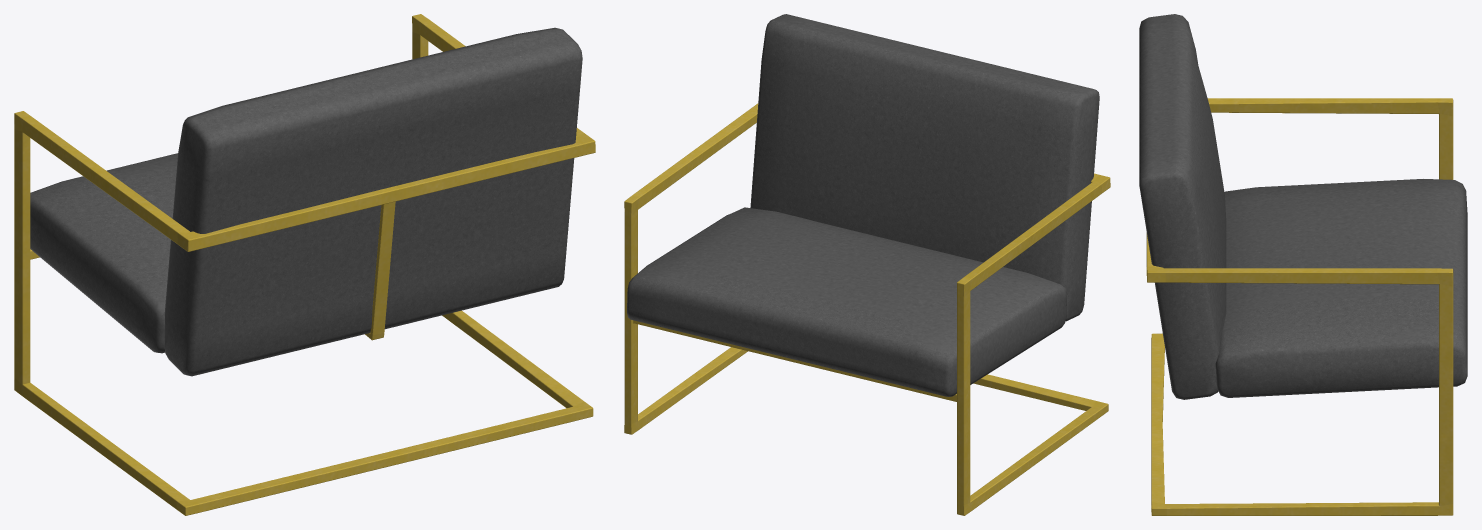
File: gold_chair.fbx
3 views of the same model, side by side, from view 1: azimuth 30°, elevation 25°; view 2: azimuth 150°, elevation 25°; view 3: azimuth 270°, elevation 25° (orthographic). The views are drawn at different scales.
Parts seen in each view (by area): view 1: Cube.016; view 2: Cube.016; view 3: Cube.016.
Part boxes in pixels (x1,y1,x2,y2): Cube.016: [14, 14, 595, 515]; Cube.016: [624, 14, 1110, 515]; Cube.016: [1139, 14, 1467, 515].
Size of the model in its own units: 99.94 by 89.8 by 79.35.
